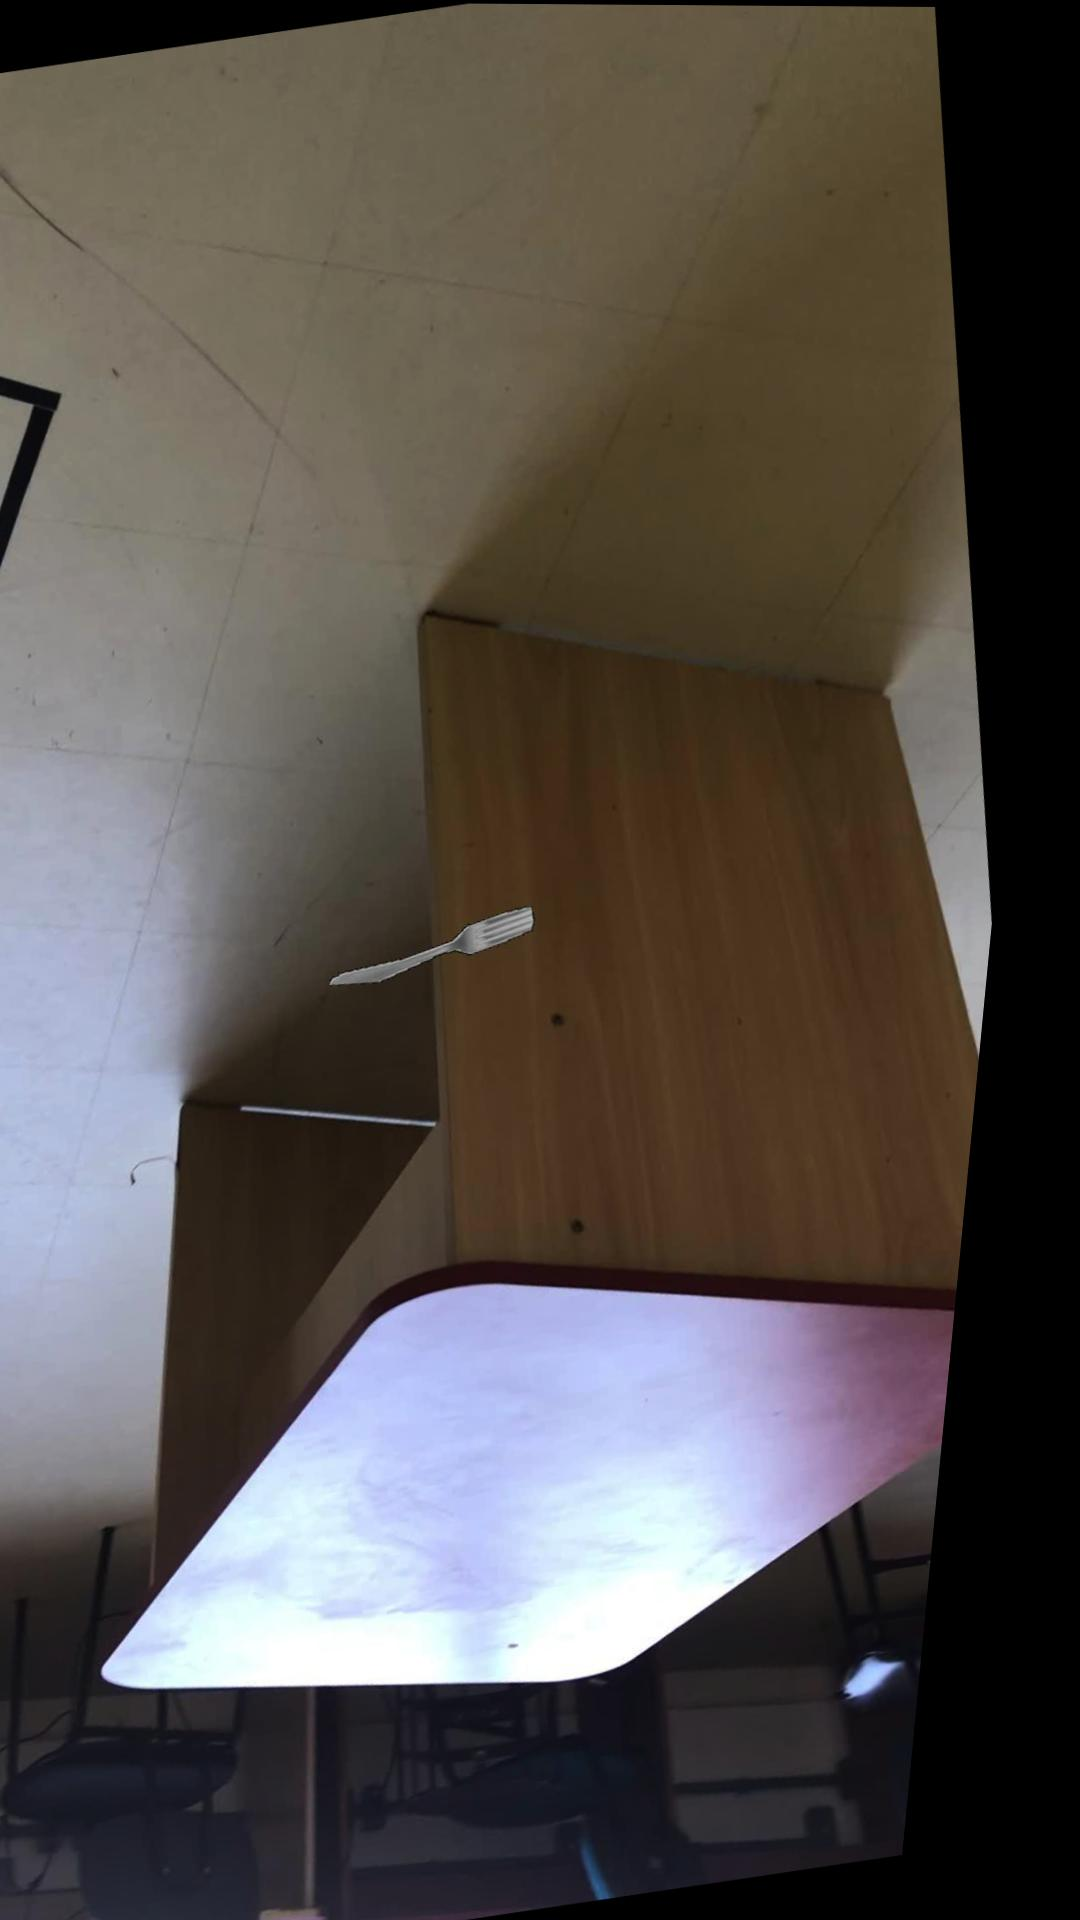fork: (348, 906, 553, 986)
